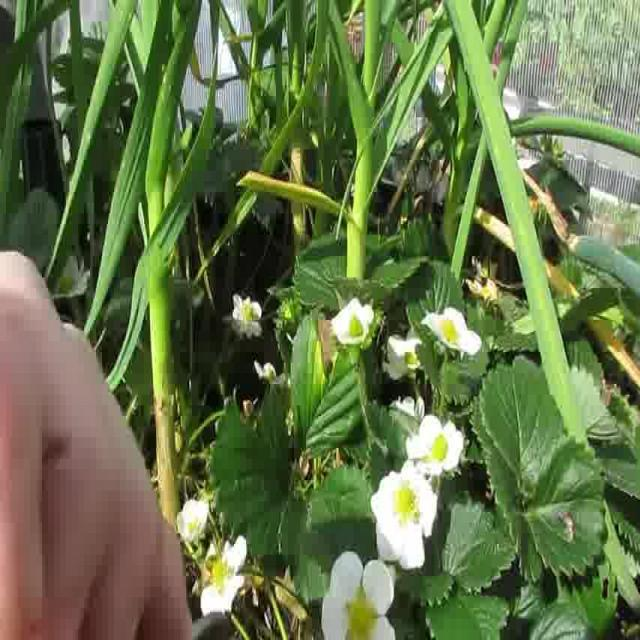Fruta sana: (348, 318, 363, 336), (403, 352, 416, 364)
